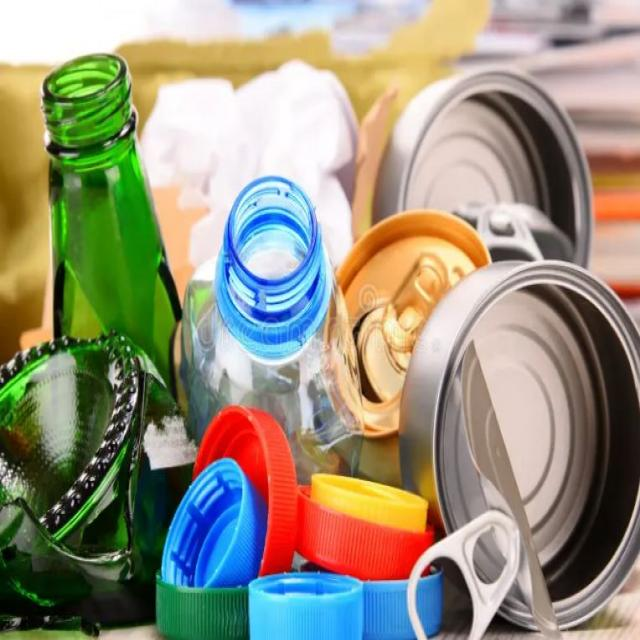dry: (433, 262, 640, 639), (155, 405, 422, 640), (185, 176, 357, 432), (366, 72, 600, 249)
